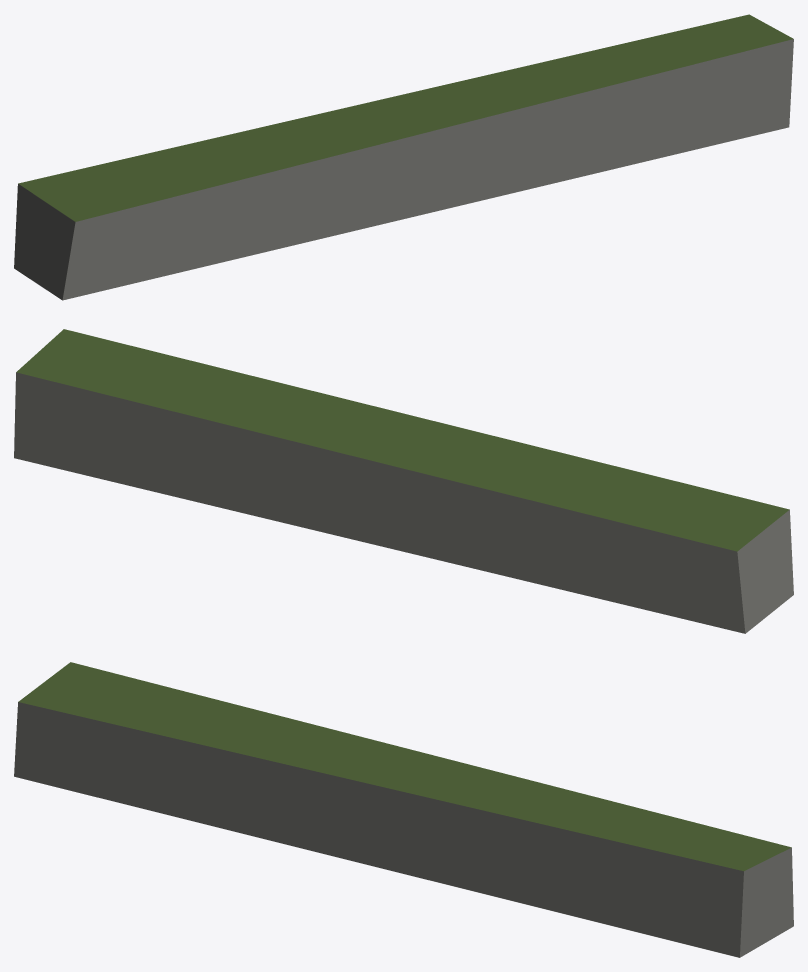
Rendered from LintelLong.fbx.
3 renders of one model, top to bottom at view 1: azimuth 30°, elevation 25°; view 2: azimuth 150°, elevation 25°; view 3: azimuth 330°, elevation 25°, orthographic.
Visible parts, largest first — view 1: LintelLong; view 2: LintelLong; view 3: LintelLong.
Part boxes in pixels (bbox=[...]): LintelLong: bbox=[14, 14, 793, 300]; LintelLong: bbox=[14, 329, 793, 633]; LintelLong: bbox=[14, 662, 793, 957].
Size of the model in its own units: 4.49 by 0.5388 by 0.5853.
